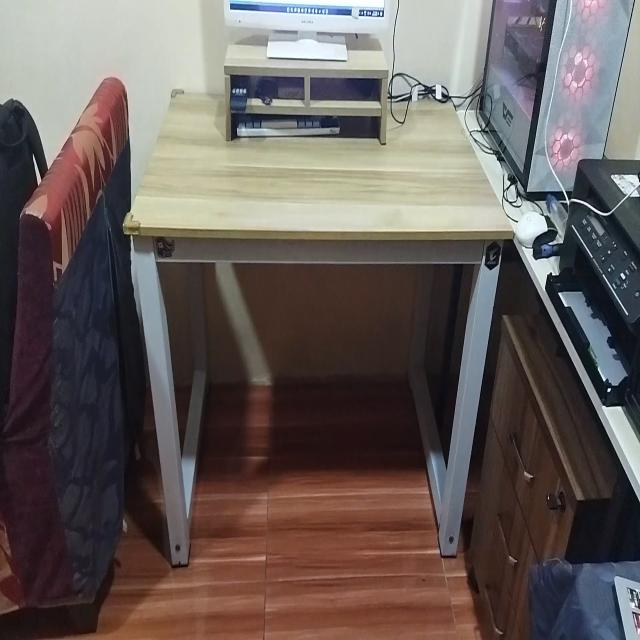table: (124, 76, 508, 581)
